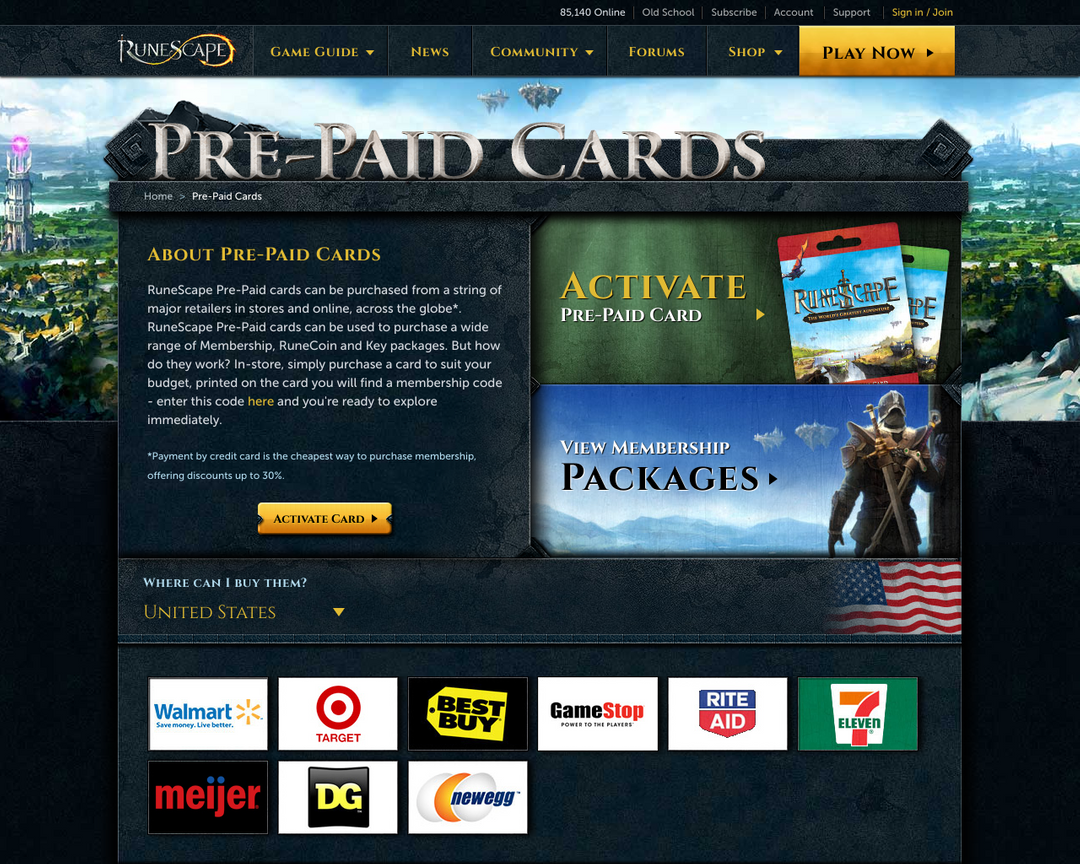Runescape: (112, 29, 239, 70)
